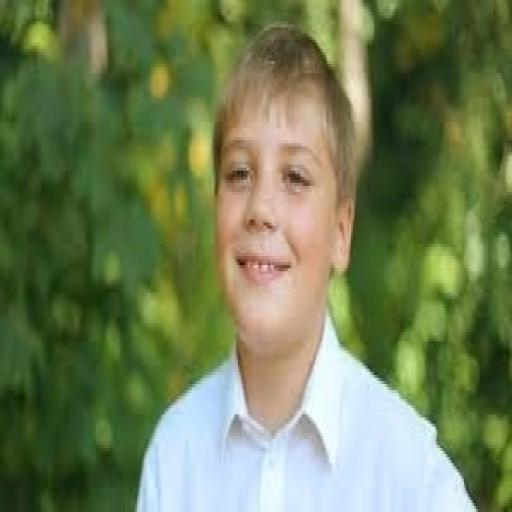laughing: (128, 18, 478, 506)
